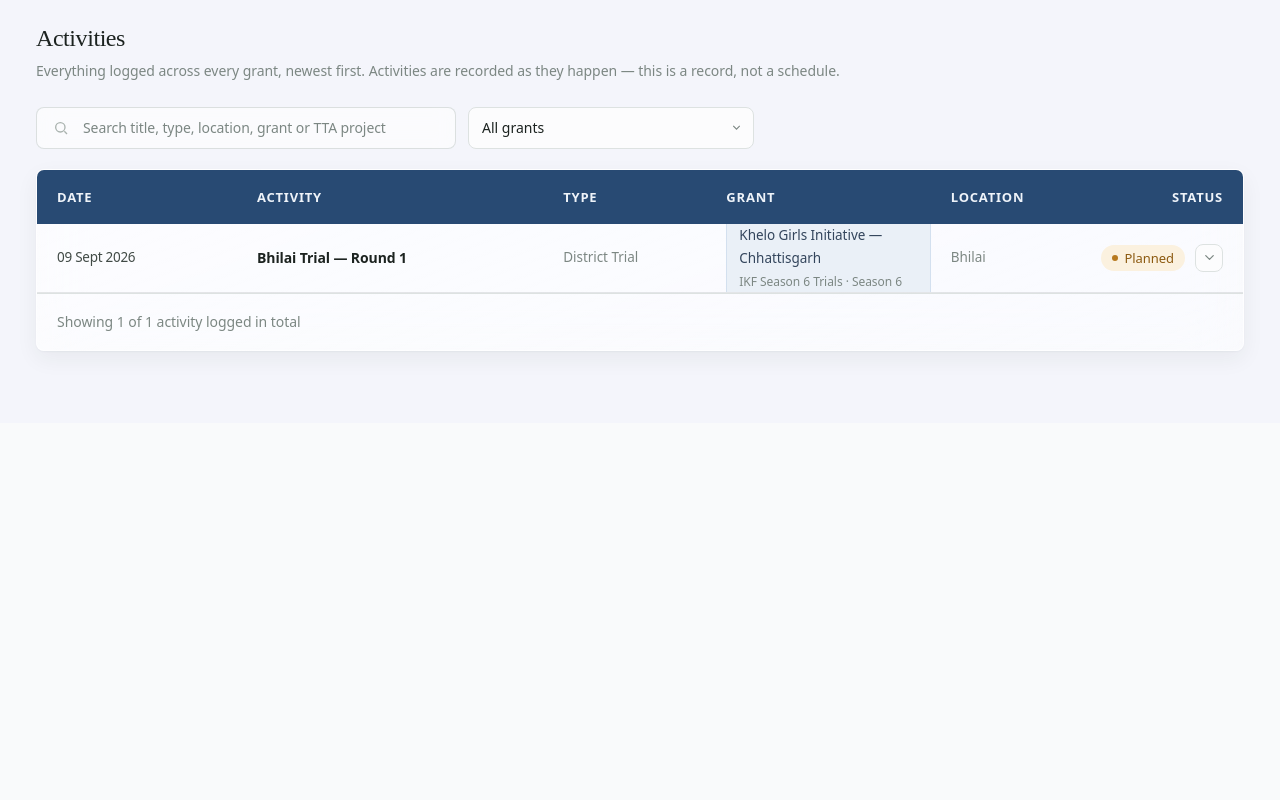
the names an activity carries › the detail shows the trial code and the TTA project
Click the button named "Show details for Bhilai Trial" at x=1209, y=258, box [1195,244,1223,272]
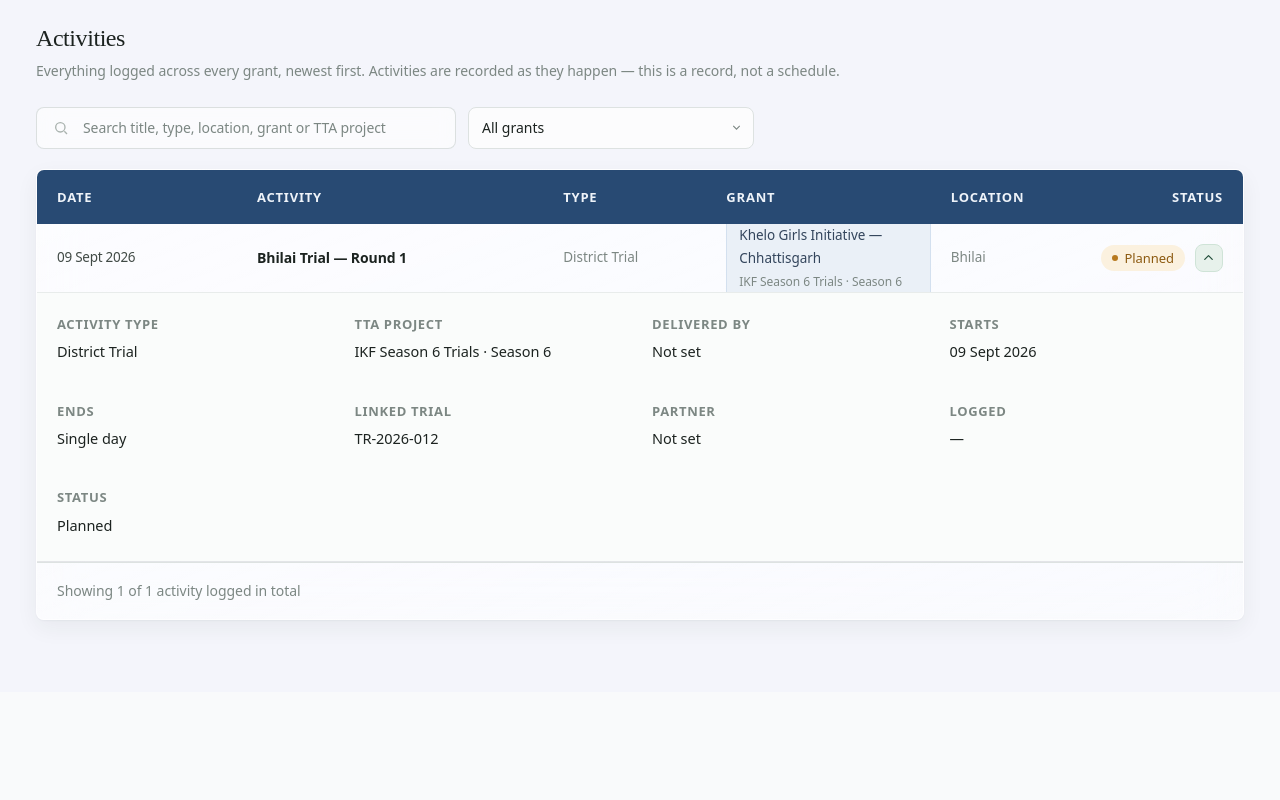
Check: the text "TR-2026-012" is shown, box [354,428,438,448]
Check: the text "TTA project" is shown, box [354,315,443,333]
